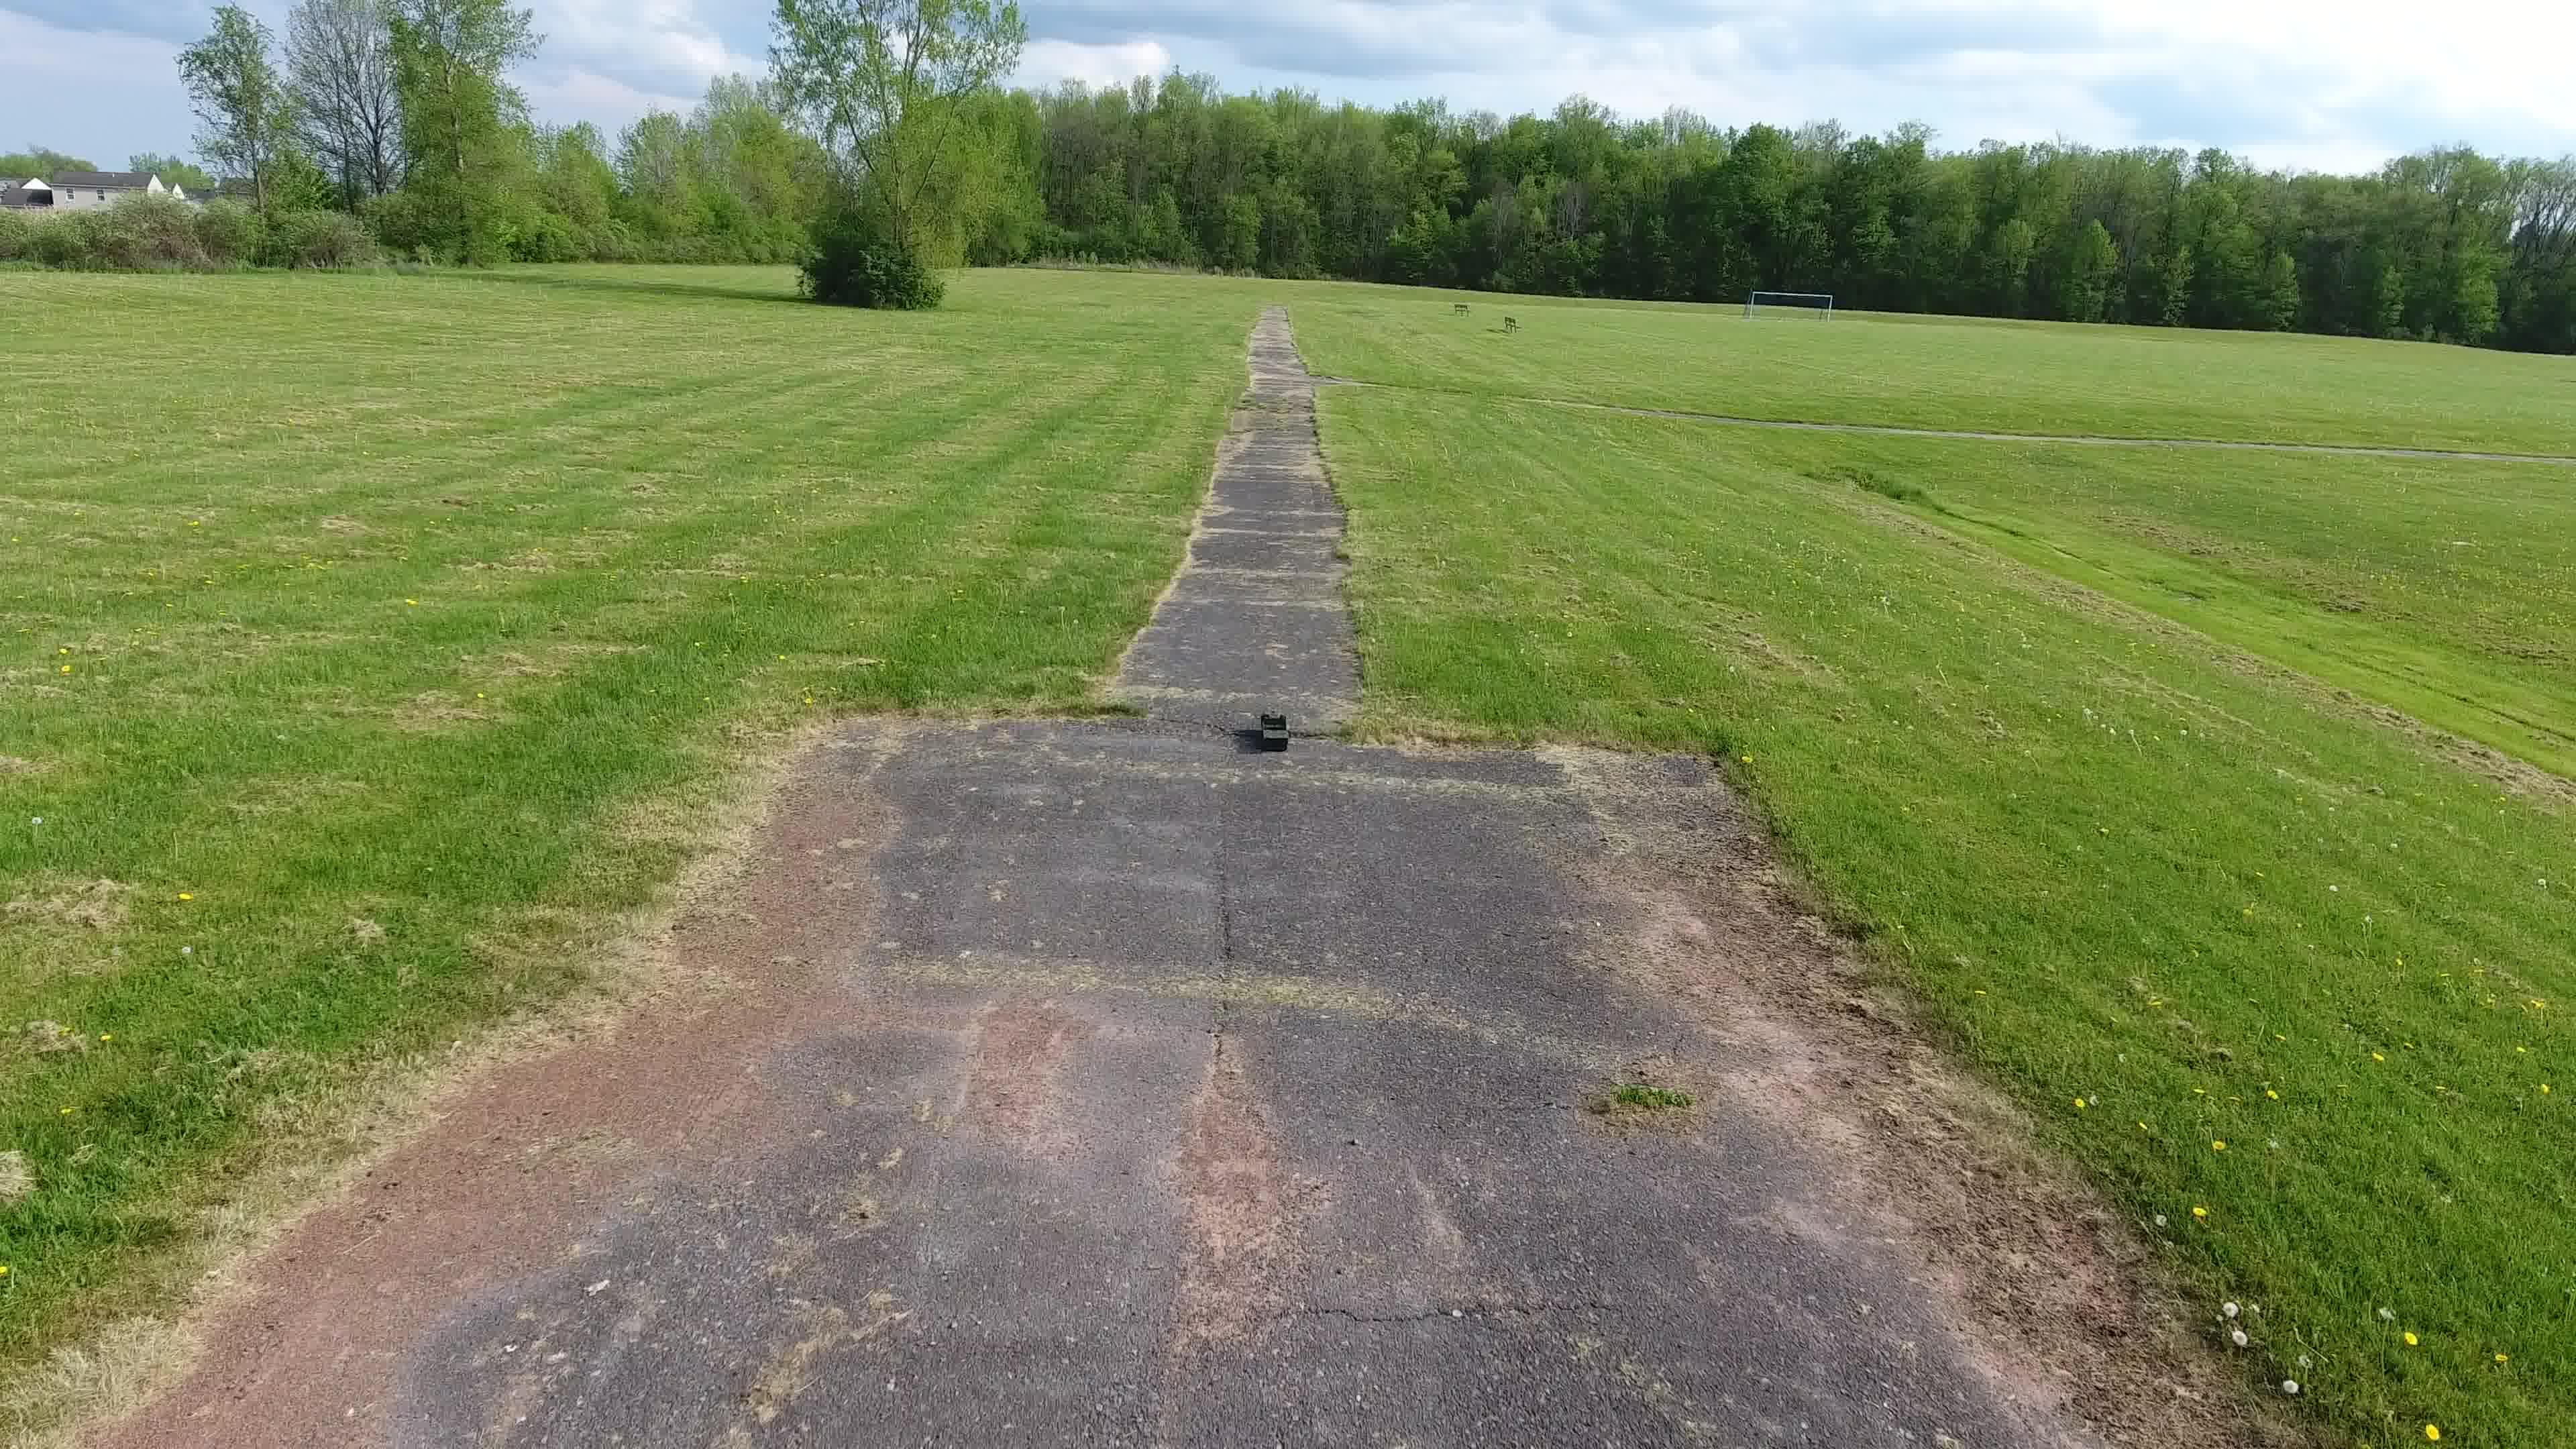transporter9_camo: (1258, 709, 1292, 754)
